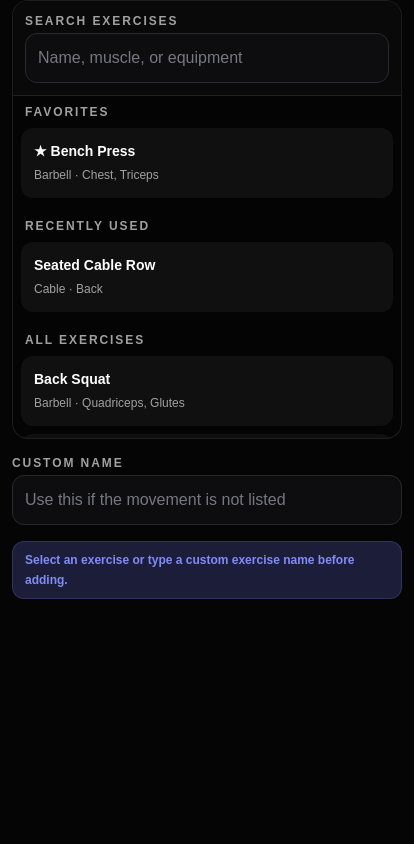
ExerciseSelect › announces an accessible empty result without rendering empty sections
Step 1. Type "movement that does not exist" into the search field → (207, 58), box [25,33,389,83]
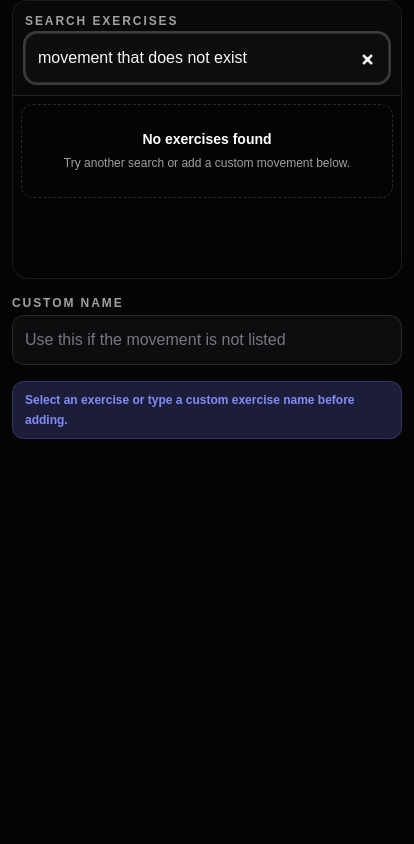
Expected: the field labelled "Custom name" is shown, [12,315,402,365]
Result: the message shows "No exercises found" at [142,131,272,147]
Result: the heading "Favorites" is gone
